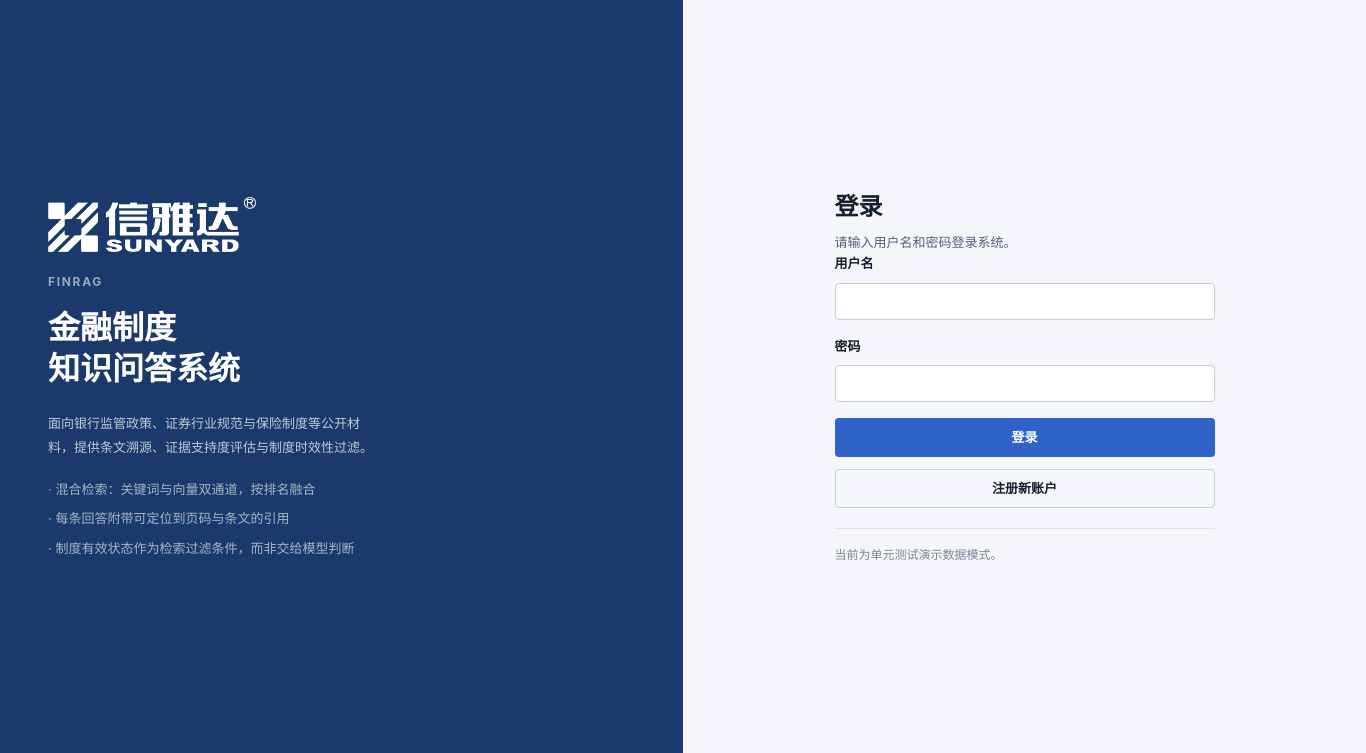
制度问答页 › 点击角标弹出来源卡片
The image size is (1366, 753).
In the field labelled "用户名": (1024,301) [834,283,1214,320], type "user"
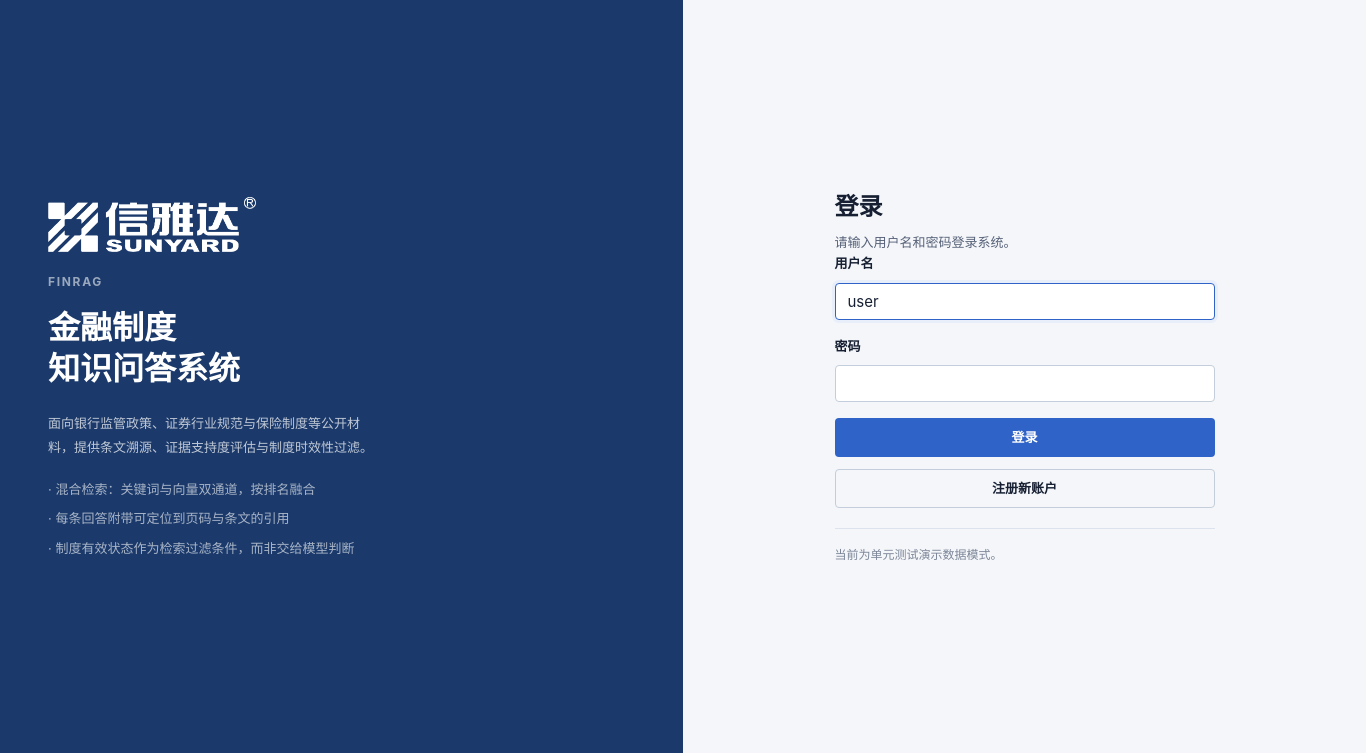
In the password field labelled "密码": (1024,384) [834,365,1214,402], type "finrag2026"
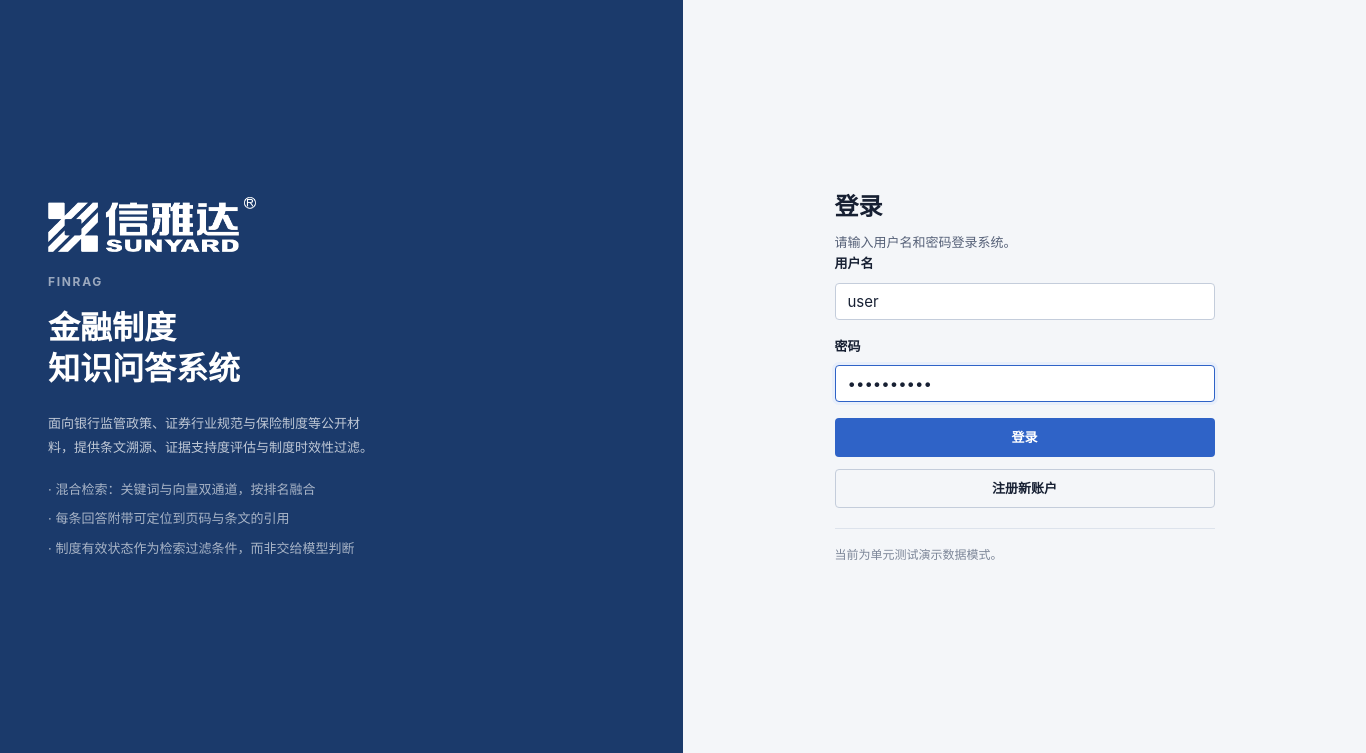
Click the button "登录": (1024,438) [834,418,1214,457]
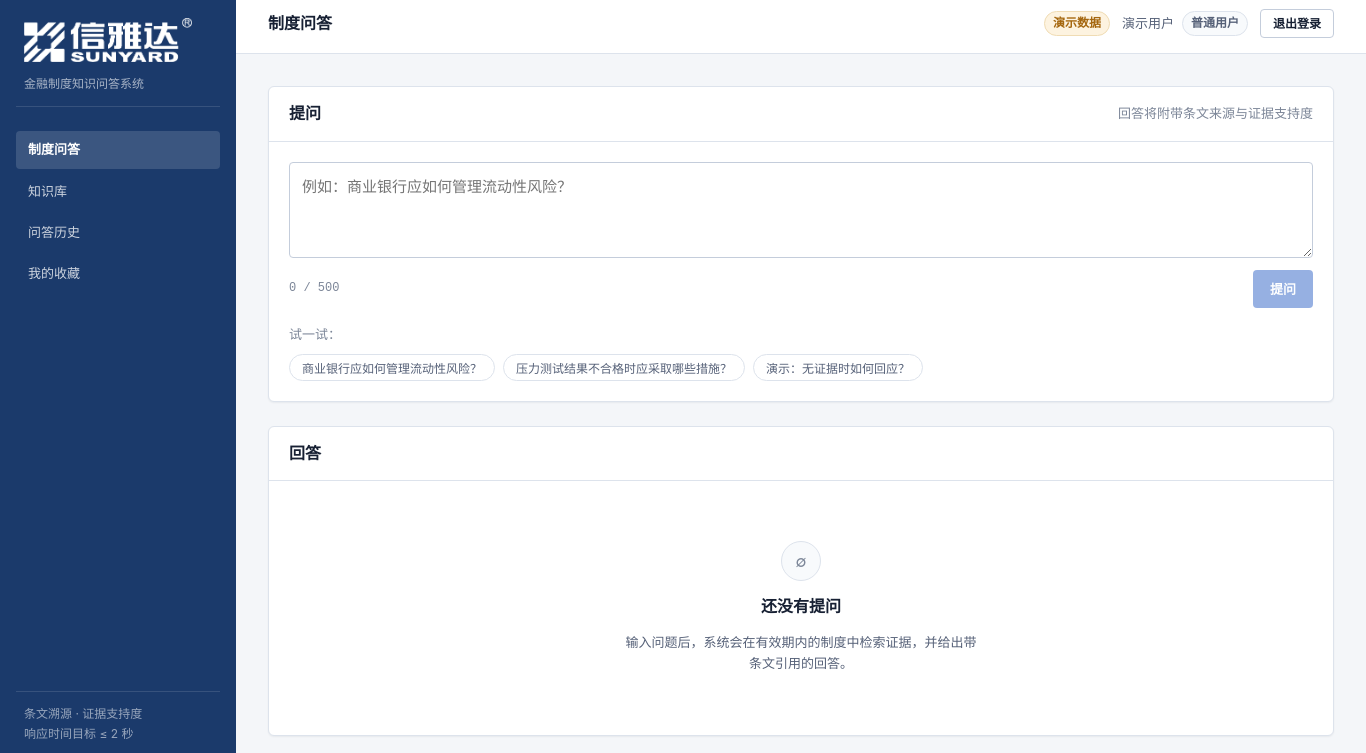
Result: the heading "提问" is shown at [289,103,321,125]
In the text box named "问题": (801,210) [289,162,1313,258], type "商业银行应如何管理流动性风险？"
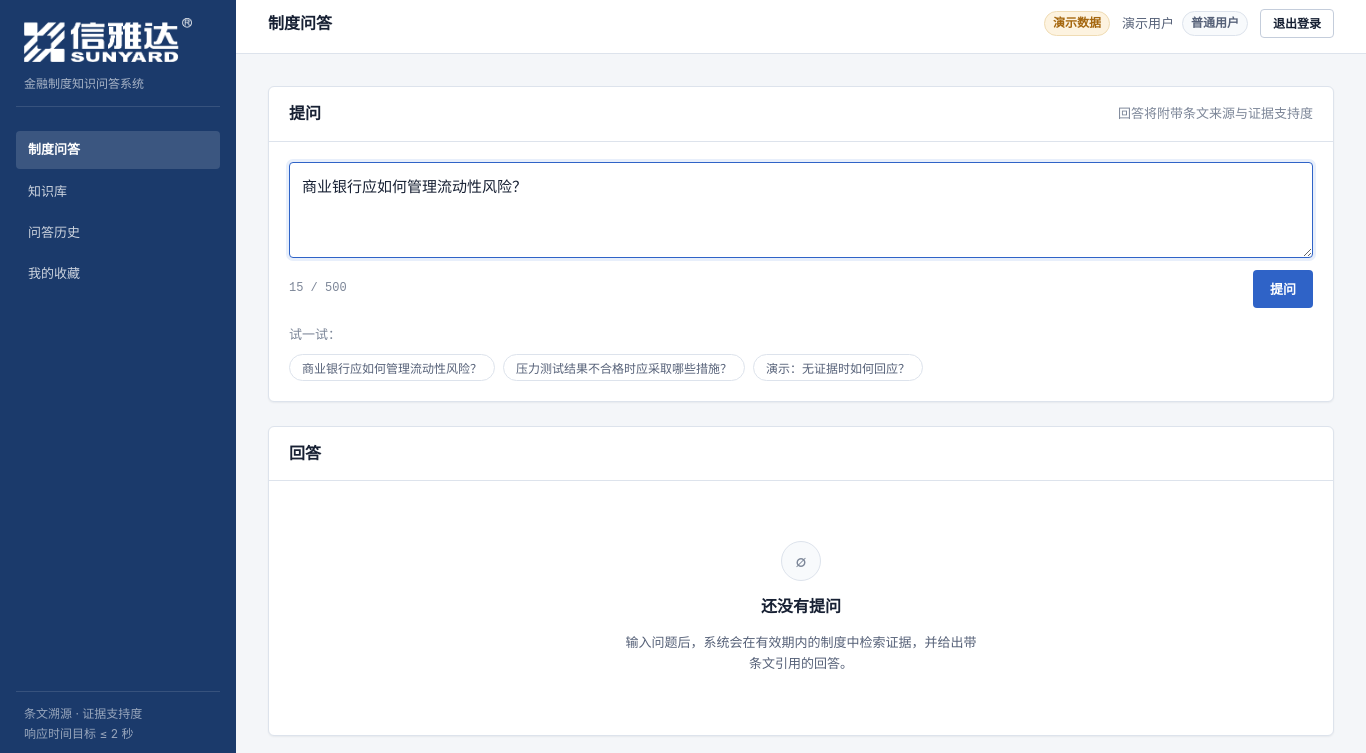
Click the button "提问": (1283,289) [1253,270,1313,308]
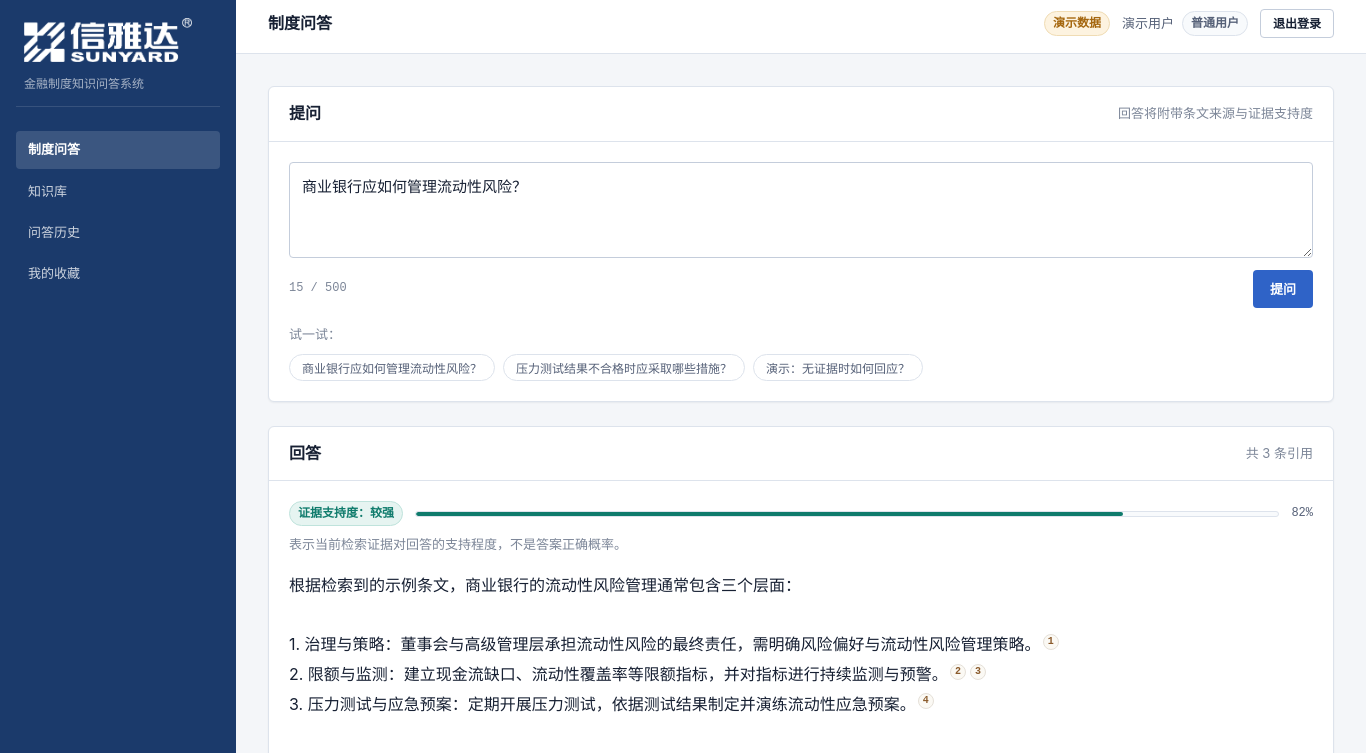
Result: the text "根据检索到的示例条文" is shown at [289,575,1041,654]
Click the button "1": (1051,642) [1043,634,1059,650]
(page scrolled)
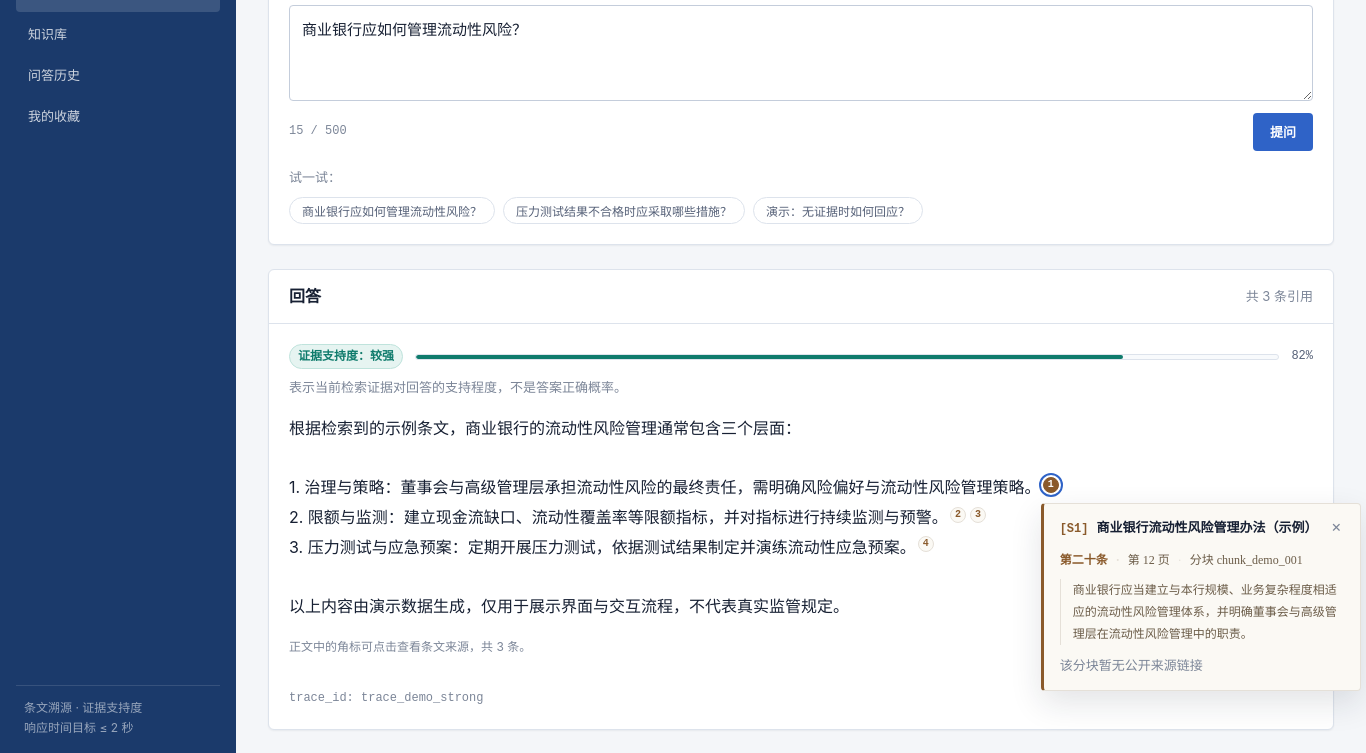
Result: the text "第二十条" is shown at [1060,549,1120,571]
Result: the text "分块 chunk_demo_001" is shown at [1190,549,1303,571]
Result: the text "商业银行应当建立与本行规模、业务复杂程度相适应的流动性风险管理体系，并明确董事会与高级管理层在流动性风险管理中的职责。" is shown at [1060,579,1344,645]
